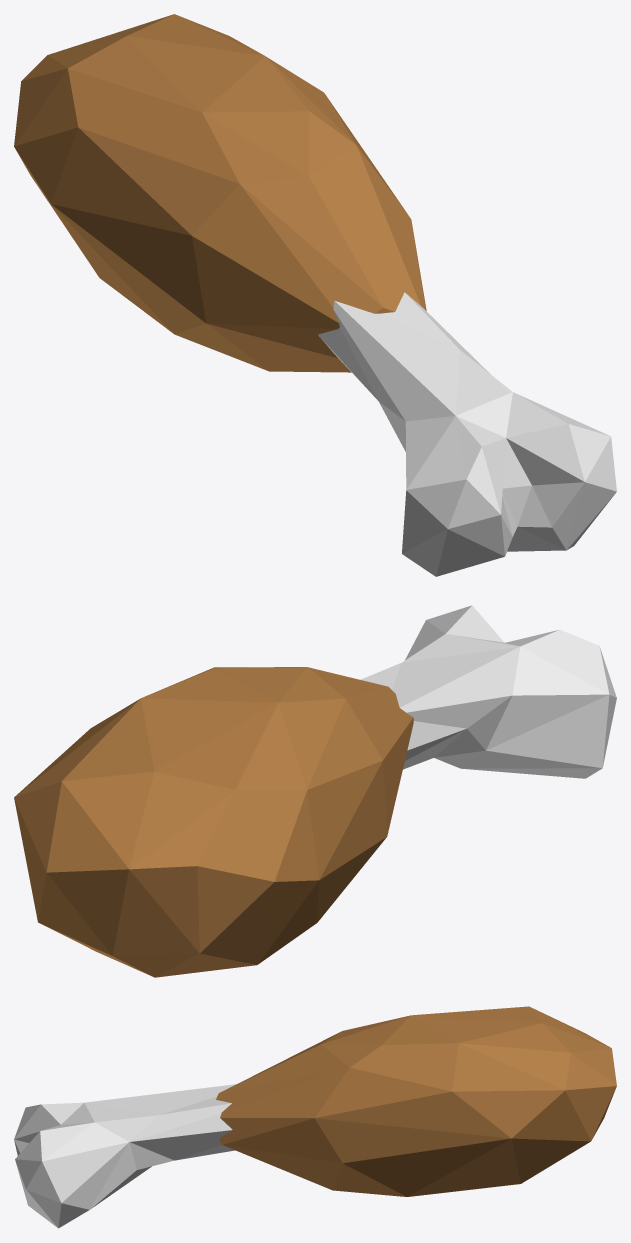
Rendered from chicken_leg.fbx.
3 renders of one model, top to bottom at view 1: azimuth 30°, elevation 25°; view 2: azimuth 150°, elevation 25°; view 3: azimuth 270°, elevation 25°, orthographic. The views are drawn at different scales.
Parts seen in each view (by area): view 1: Sphere, Cylinder; view 2: Sphere, Cylinder; view 3: Sphere, Cylinder.
Boxes of the visible parts, <box> form: Sphere: <box>14,14,426,372</box>; Cylinder: <box>318,292,616,576</box>; Sphere: <box>14,667,413,977</box>; Cylinder: <box>360,605,616,778</box>; Sphere: <box>216,1006,616,1196</box>; Cylinder: <box>14,1084,236,1228</box>.
Size of the model in its own units: 343 by 336 by 1007.
